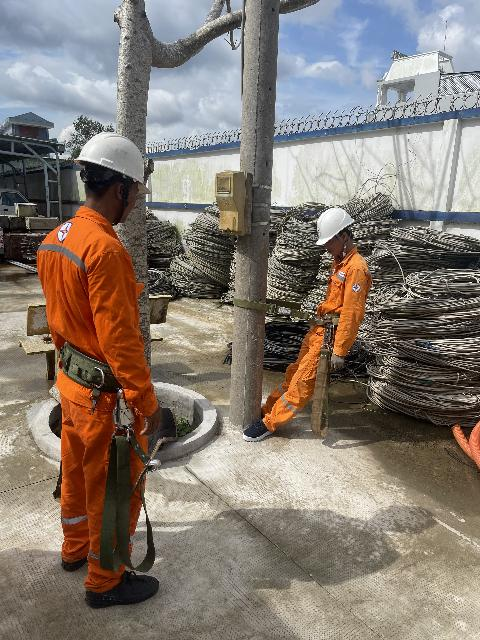harness: (46, 337, 139, 402), (298, 302, 345, 334)
helmet: (63, 125, 166, 202), (308, 207, 360, 245)
shoes: (84, 572, 163, 606), (52, 542, 104, 574), (235, 414, 278, 448)
